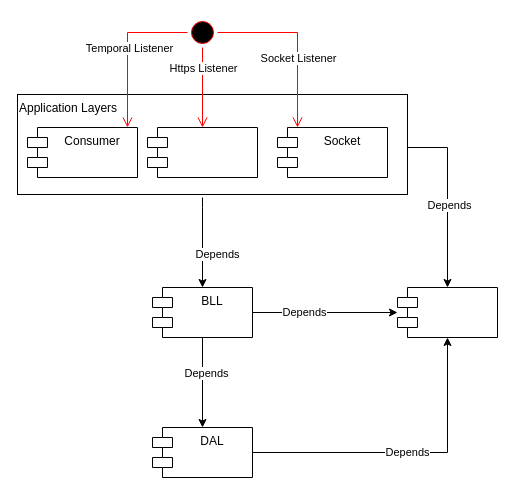
Image size: 515x495. Some labels were removed from this diagram. The centre of each missing label's shape, as x and y in pixels:
"DTO" goes at pixel 447 312.
"Restful APIs" goes at pixel 202 152.
